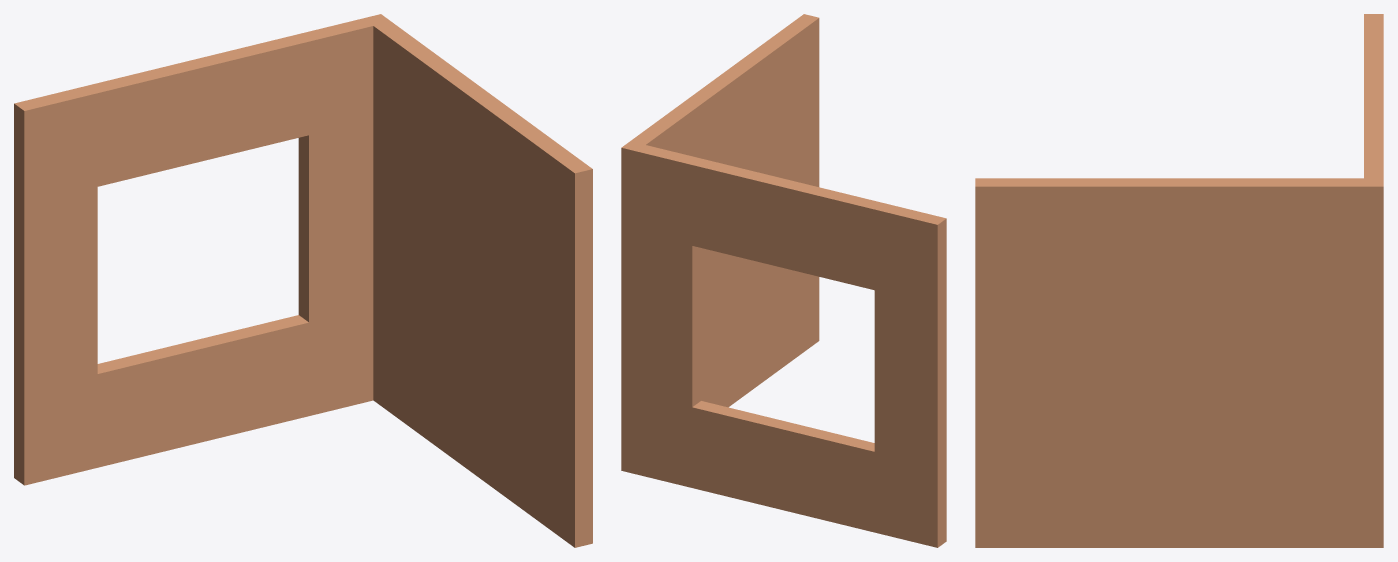
File: Wal_4_Corner_C.fbx
The picture shows the model from 3 angles, left to right: view 1: azimuth 30°, elevation 25°; view 2: azimuth 150°, elevation 25°; view 3: azimuth 270°, elevation 25°; orthographic projection. The views are drawn at different scales.
Parts seen in each view (by area): view 1: polySurface27; view 2: polySurface27; view 3: polySurface27.
Part boxes in pixels (bbox=[...]): polySurface27: bbox=[14, 14, 592, 547]; polySurface27: bbox=[621, 14, 946, 547]; polySurface27: bbox=[975, 14, 1383, 547].
Size of the model in its own units: 4.1 by 4 by 4.1.
1 material, 1 textured.
